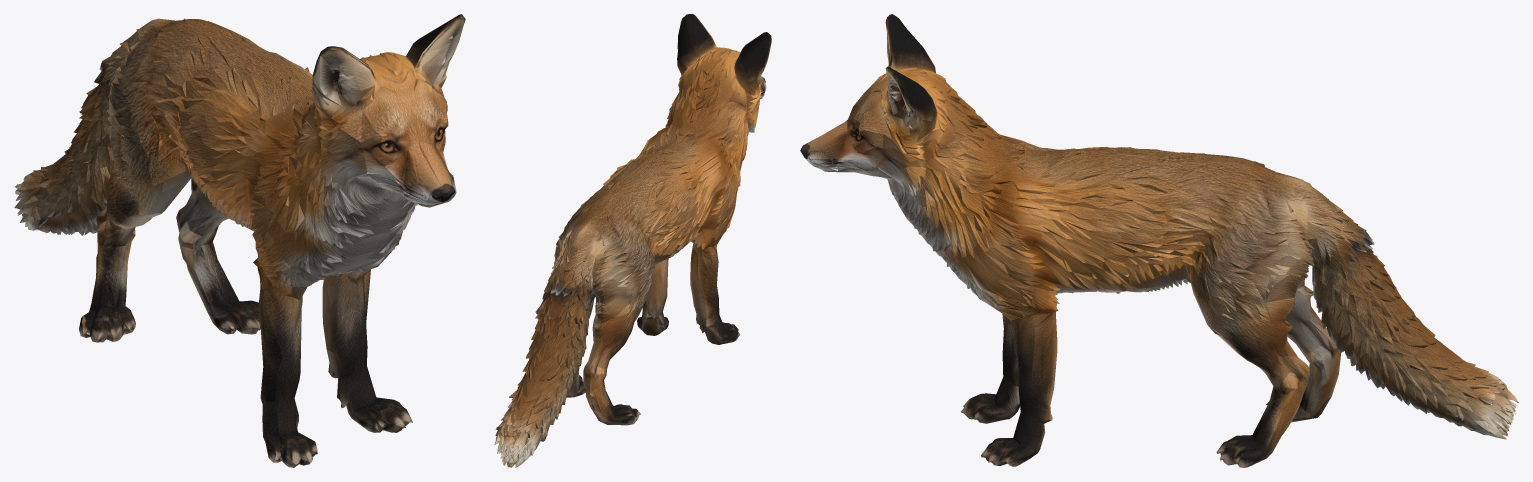
Rendered from renard.glb.
3 renders of one model, left to right at view 1: azimuth 30°, elevation 25°; view 2: azimuth 150°, elevation 25°; view 3: azimuth 270°, elevation 25°, orthographic. The views are drawn at different scales.
Visible parts, largest first — view 1: Mesh_0; view 2: Mesh_0; view 3: Mesh_0.
Boxes of the visible parts, box(x1,y1,x2,y2) form: Mesh_0: box(14, 14, 465, 467); Mesh_0: box(494, 14, 771, 467); Mesh_0: box(800, 14, 1518, 467).
Bounding box in the file's own units: 0.426 × 1.16 × 1.91.
1 material, 1 textured.
